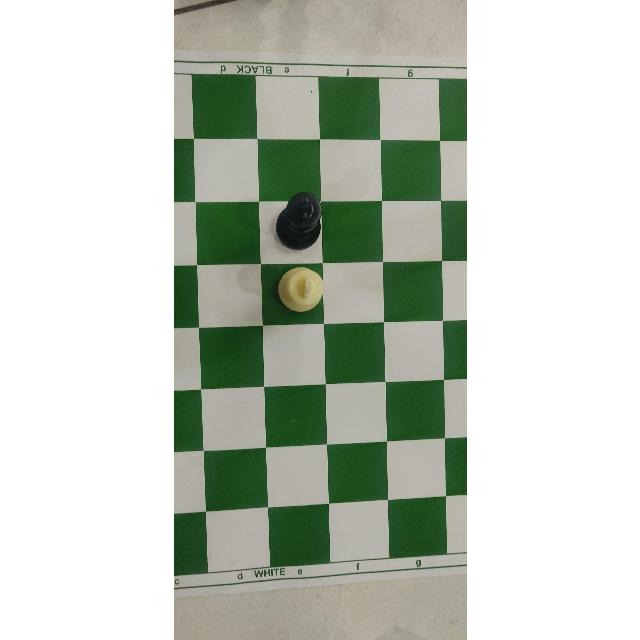black-king: (271, 189, 323, 253)
white-king: (276, 264, 324, 313)
